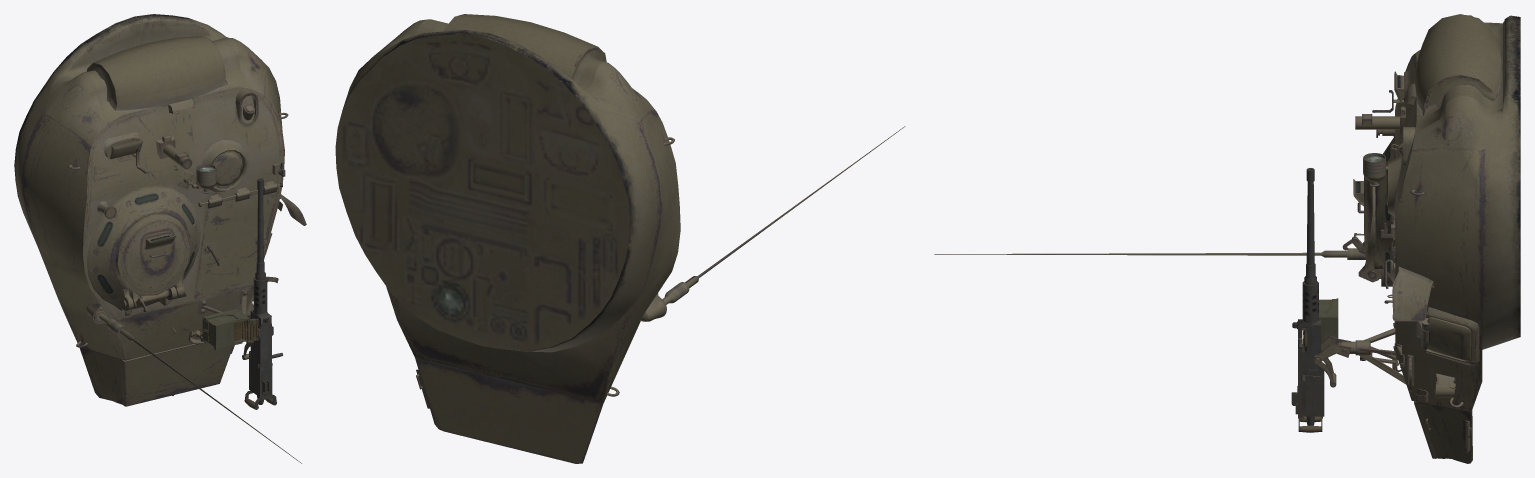
Rendered from Turret_02.glb.
3 renders of one model, left to right at view 1: azimuth 30°, elevation 25°; view 2: azimuth 150°, elevation 25°; view 3: azimuth 270°, elevation 25°, orthographic. The views are drawn at different scales.
Parts seen in each view (by area): view 1: set_0_group_0; view 2: set_0_group_0; view 3: set_0_group_0.
Part boxes in pixels (x1,y1,x2,y2): set_0_group_0: (14,14,306,463); set_0_group_0: (335,14,905,463); set_0_group_0: (934,14,1520,463).
Bounding box in the file's own units: 1.98 × 2.58 × 3.4.
Materials: 1 (1 with a texture image).
